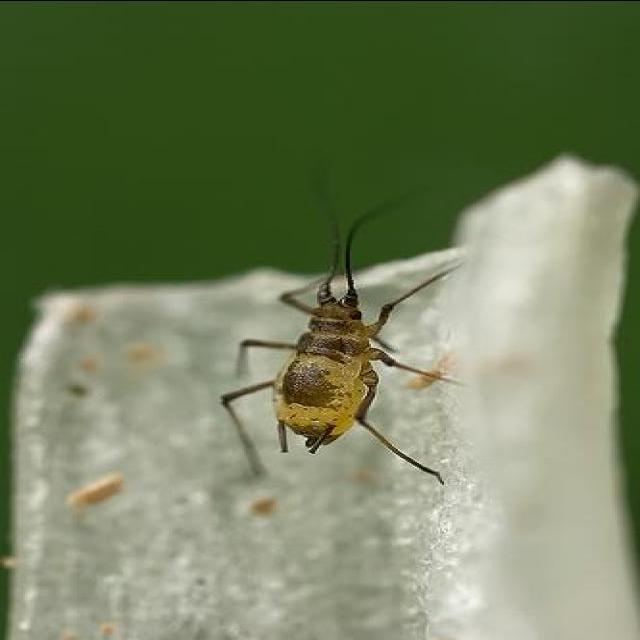aphid: (218, 222, 448, 452)
